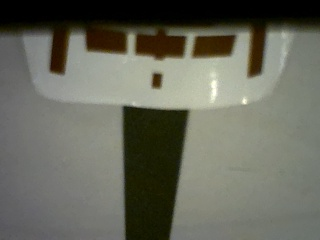Clearing_Zone: (47, 25, 266, 90)
